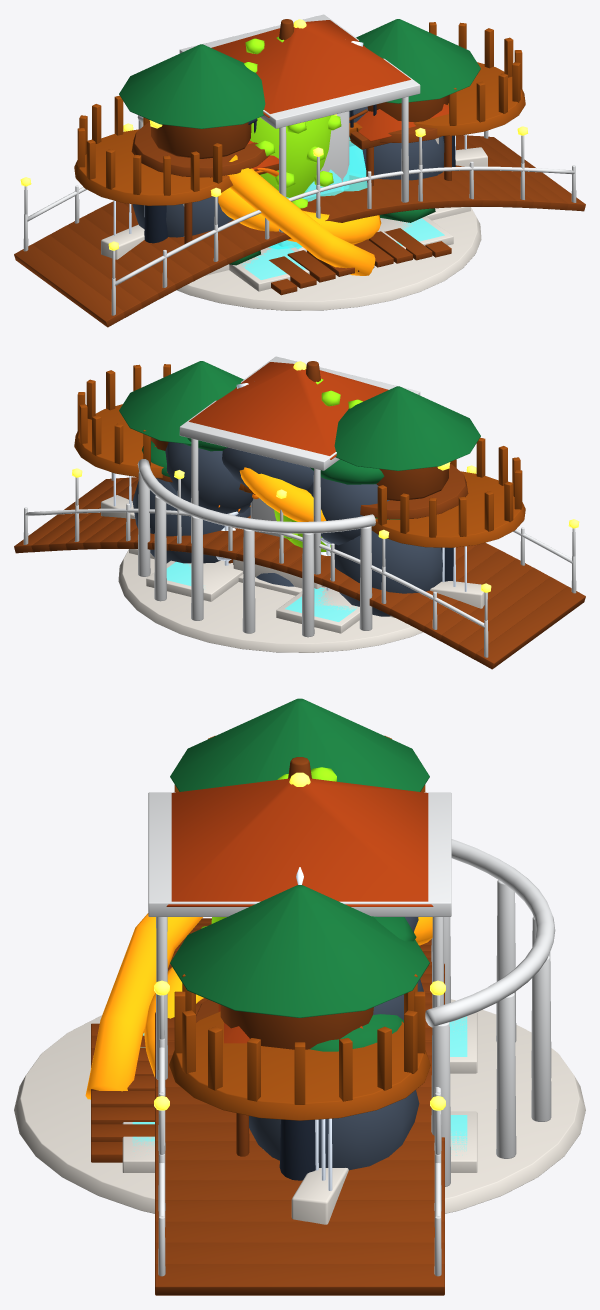
File: sbg_sculptures_bridges.glb
3 renders of one model, top to bottom at view 1: azimuth 30°, elevation 25°; view 2: azimuth 150°, elevation 25°; view 3: azimuth 270°, elevation 25°, orthographic. The views are drawn at different scales.
Parts seen in each view (by area): view 1: SBG_SwanBridge_TeakDeck, SBG_Treehouse_ConicalRoofs, SBG_WalkOfGiants_TimberDrums, SBG_Sundial_StonePedestal, SBG_SwanBridge_VictorianPavilion, SBG_SwanBridge_TerracottaRoof, SBG_Treehouse_TimberHuts, SBG_Treehouse_CanopySlide, SBG_CempedakPod_FruitTower, SBG_GingerCavern_RockArch, SBG_GingerCavern_TimberBridge, SBG_CempedakPod_SpiralSlide (+10 smaller); view 2: SBG_SwanBridge_TeakDeck, SBG_Treehouse_ConicalRoofs, SBG_Sundial_StonePedestal, SBG_GingerCavern_RockArch, SBG_WalkOfGiants_TimberDrums, SBG_Sundial_RomanPergola, SBG_SwanBridge_TerracottaRoof, SBG_SwanBridge_VictorianPavilion, SBG_Treehouse_TimberHuts, SBG_CempedakPod_SpiralSlide, SBG_GingerCavern_MossTop, SBG_Sundial_LilyBasins (+7 smaller); view 3: SBG_SwanBridge_TeakDeck, SBG_Treehouse_ConicalRoofs, SBG_SwanBridge_TerracottaRoof, SBG_Sundial_StonePedestal, SBG_WalkOfGiants_TimberDrums, SBG_Sundial_RomanPergola, SBG_SwanBridge_VictorianPavilion, SBG_Treehouse_CanopySlide, SBG_GingerCavern_RockArch, SBG_GingerCavern_TimberBridge, SBG_Treehouse_TimberHuts, SBG_TanglinGate_StonePillars (+6 smaller).
Boxes of the visible parts, x1,y1,x2,y2 form: SBG_SwanBridge_TeakDeck: [14, 135, 585, 327]; SBG_Treehouse_ConicalRoofs: [119, 19, 480, 128]; SBG_WalkOfGiants_TimberDrums: [74, 22, 525, 205]; SBG_Sundial_StonePedestal: [177, 207, 481, 310]; SBG_SwanBridge_VictorianPavilion: [23, 14, 576, 315]; SBG_SwanBridge_TerracottaRoof: [211, 20, 410, 117]; SBG_Treehouse_TimberHuts: [131, 95, 448, 177]; SBG_Treehouse_CanopySlide: [227, 155, 375, 275]; SBG_CempedakPod_FruitTower: [244, 36, 341, 208]; SBG_GingerCavern_RockArch: [132, 106, 444, 237]; SBG_GingerCavern_TimberBridge: [269, 228, 451, 295]; SBG_CempedakPod_SpiralSlide: [218, 188, 381, 244]; SBG_SwanBridge_TeakDeck: [14, 477, 585, 669]; SBG_Treehouse_ConicalRoofs: [119, 361, 480, 470]; SBG_Sundial_StonePedestal: [118, 549, 422, 652]; SBG_GingerCavern_RockArch: [132, 442, 442, 616]; SBG_WalkOfGiants_TimberDrums: [74, 364, 525, 547]; SBG_Sundial_RomanPergola: [137, 459, 375, 637]; SBG_SwanBridge_TerracottaRoof: [189, 362, 388, 459]; SBG_SwanBridge_VictorianPavilion: [23, 356, 576, 657]; SBG_Treehouse_TimberHuts: [151, 437, 468, 519]; SBG_CempedakPod_SpiralSlide: [239, 467, 326, 521]; SBG_GingerCavern_MossTop: [142, 437, 399, 519]; SBG_Sundial_LilyBasins: [166, 561, 356, 621]; SBG_SwanBridge_TeakDeck: [155, 918, 444, 1295]; SBG_Treehouse_ConicalRoofs: [170, 698, 429, 1017]; SBG_SwanBridge_TerracottaRoof: [166, 778, 433, 906]; SBG_Sundial_StonePedestal: [14, 999, 585, 1213]; SBG_WalkOfGiants_TimberDrums: [169, 735, 430, 1120]; SBG_Sundial_RomanPergola: [425, 839, 555, 1186]; SBG_SwanBridge_VictorianPavilion: [148, 792, 451, 1276]; SBG_Treehouse_CanopySlide: [85, 913, 202, 1099]; SBG_GingerCavern_RockArch: [249, 917, 423, 1170]; SBG_GingerCavern_TimberBridge: [91, 1023, 154, 1162]; SBG_Treehouse_TimberHuts: [196, 999, 373, 1049]; SBG_TanglinGate_StonePillars: [263, 1149, 348, 1224].
Bounding box in the file's own units: 12.94 × 6.01 × 8.49.
